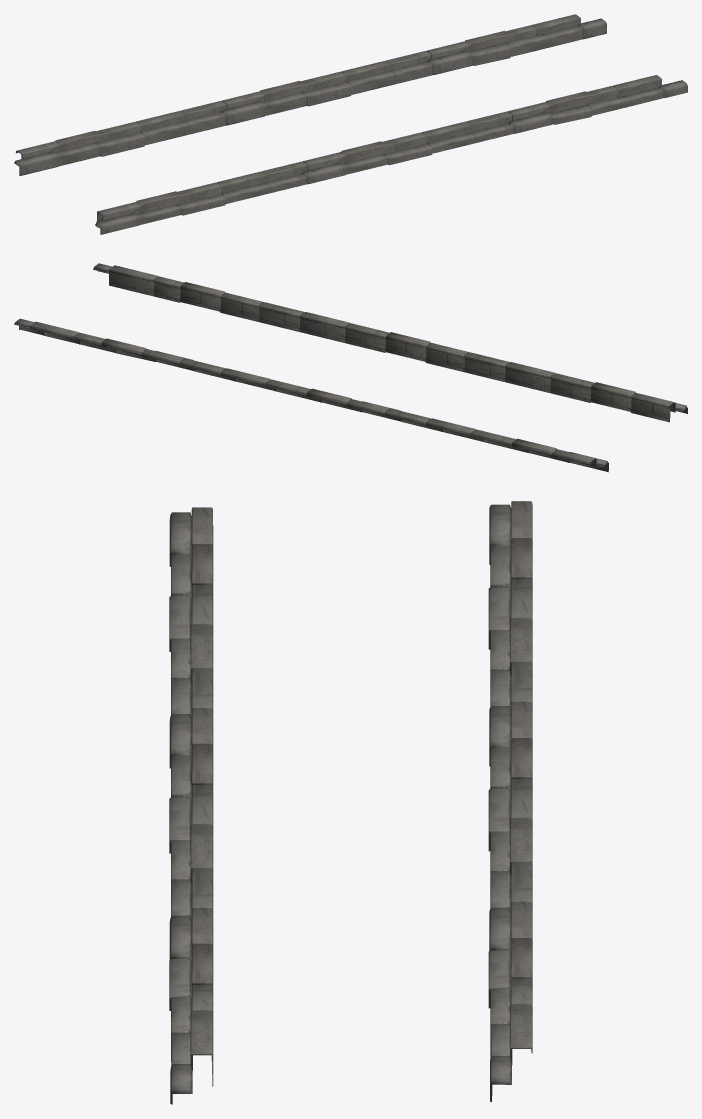
Rendered from SM_ENV_LKNVLD_Ground_Hill_Left_WaterTrim.FBX.
3 renders of one model, top to bottom at view 1: azimuth 30°, elevation 25°; view 2: azimuth 150°, elevation 25°; view 3: azimuth 270°, elevation 25°, orthographic. The views are drawn at different scales.
Parts seen in each view (by area): view 1: SM_ENV_LKNVLD_Ground_Hill_Left_WaterTrim; view 2: SM_ENV_LKNVLD_Ground_Hill_Left_WaterTrim; view 3: SM_ENV_LKNVLD_Ground_Hill_Left_WaterTrim.
Part boxes in pixels (x1=…): SM_ENV_LKNVLD_Ground_Hill_Left_WaterTrim: x1=14, y1=14, x2=687, y2=234; SM_ENV_LKNVLD_Ground_Hill_Left_WaterTrim: x1=14, y1=263, x2=687, y2=472; SM_ENV_LKNVLD_Ground_Hill_Left_WaterTrim: x1=169, y1=501, x2=532, y2=1104.
Size of the model in its own units: 2921 by 93.71 by 780.
